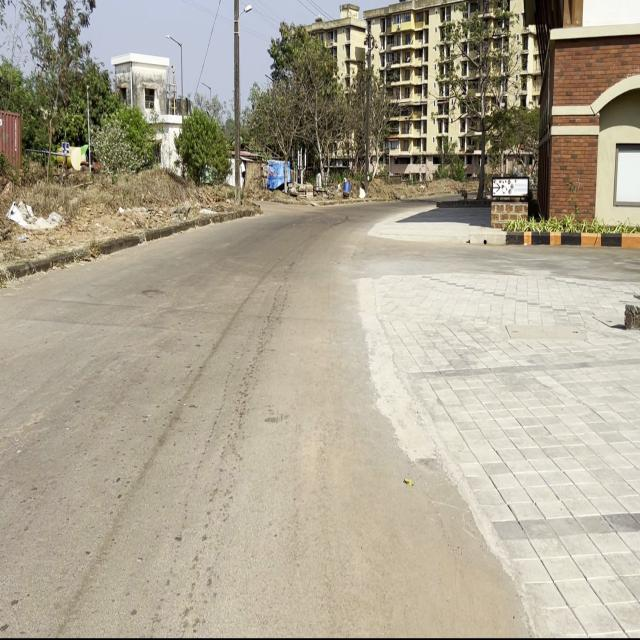Road: (0, 201, 537, 640)
